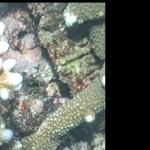dead: (1, 1, 104, 148)
